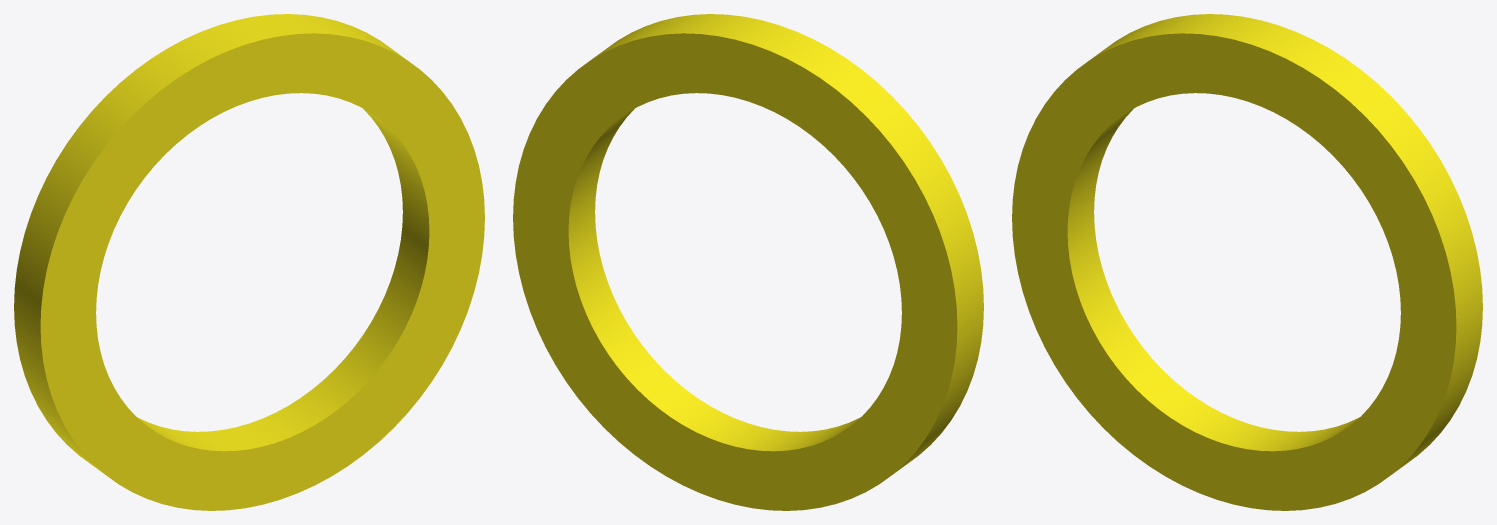
File: Adsız.glb
3 views of the same model, side by side, from view 1: azimuth 30°, elevation 25°; view 2: azimuth 150°, elevation 25°; view 3: azimuth 330°, elevation 25° (orthographic).
Parts seen in each view (by area): view 1: mesh_id43; view 2: mesh_id43; view 3: mesh_id43.
Part boxes in pixels (x1=…): mesh_id43: x1=14, y1=14, x2=484, y2=510; mesh_id43: x1=513, y1=14, x2=983, y2=510; mesh_id43: x1=1012, y1=14, x2=1482, y2=510.
Size of the model in its own units: 0.5301 by 0.5301 by 0.0548.
1 material, 1 textured.
